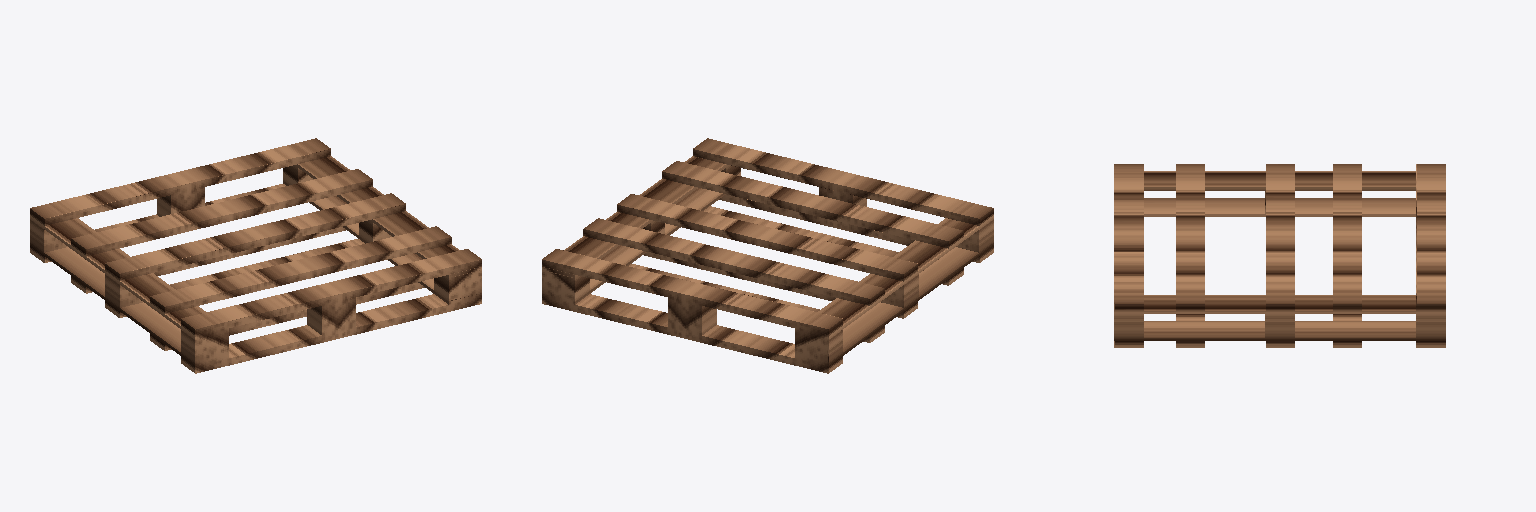
3 views of the same model, side by side, from view 1: azimuth 30°, elevation 25°; view 2: azimuth 150°, elevation 25°; view 3: azimuth 270°, elevation 25° (orthographic).
Parts seen in each view (by area): view 1: initialTextureBakeSet palletMain:Mesh; view 2: initialTextureBakeSet palletMain:Mesh; view 3: initialTextureBakeSet palletMain:Mesh.
Part boxes in pixels (x1,y1,x2,y2): initialTextureBakeSet palletMain:Mesh: (30, 138, 481, 373); initialTextureBakeSet palletMain:Mesh: (542, 138, 993, 373); initialTextureBakeSet palletMain:Mesh: (1114, 164, 1445, 347).
Bounding box in the file's own units: 0.4469 × 0.0661 × 0.4471.
1 materials, 1 textured.